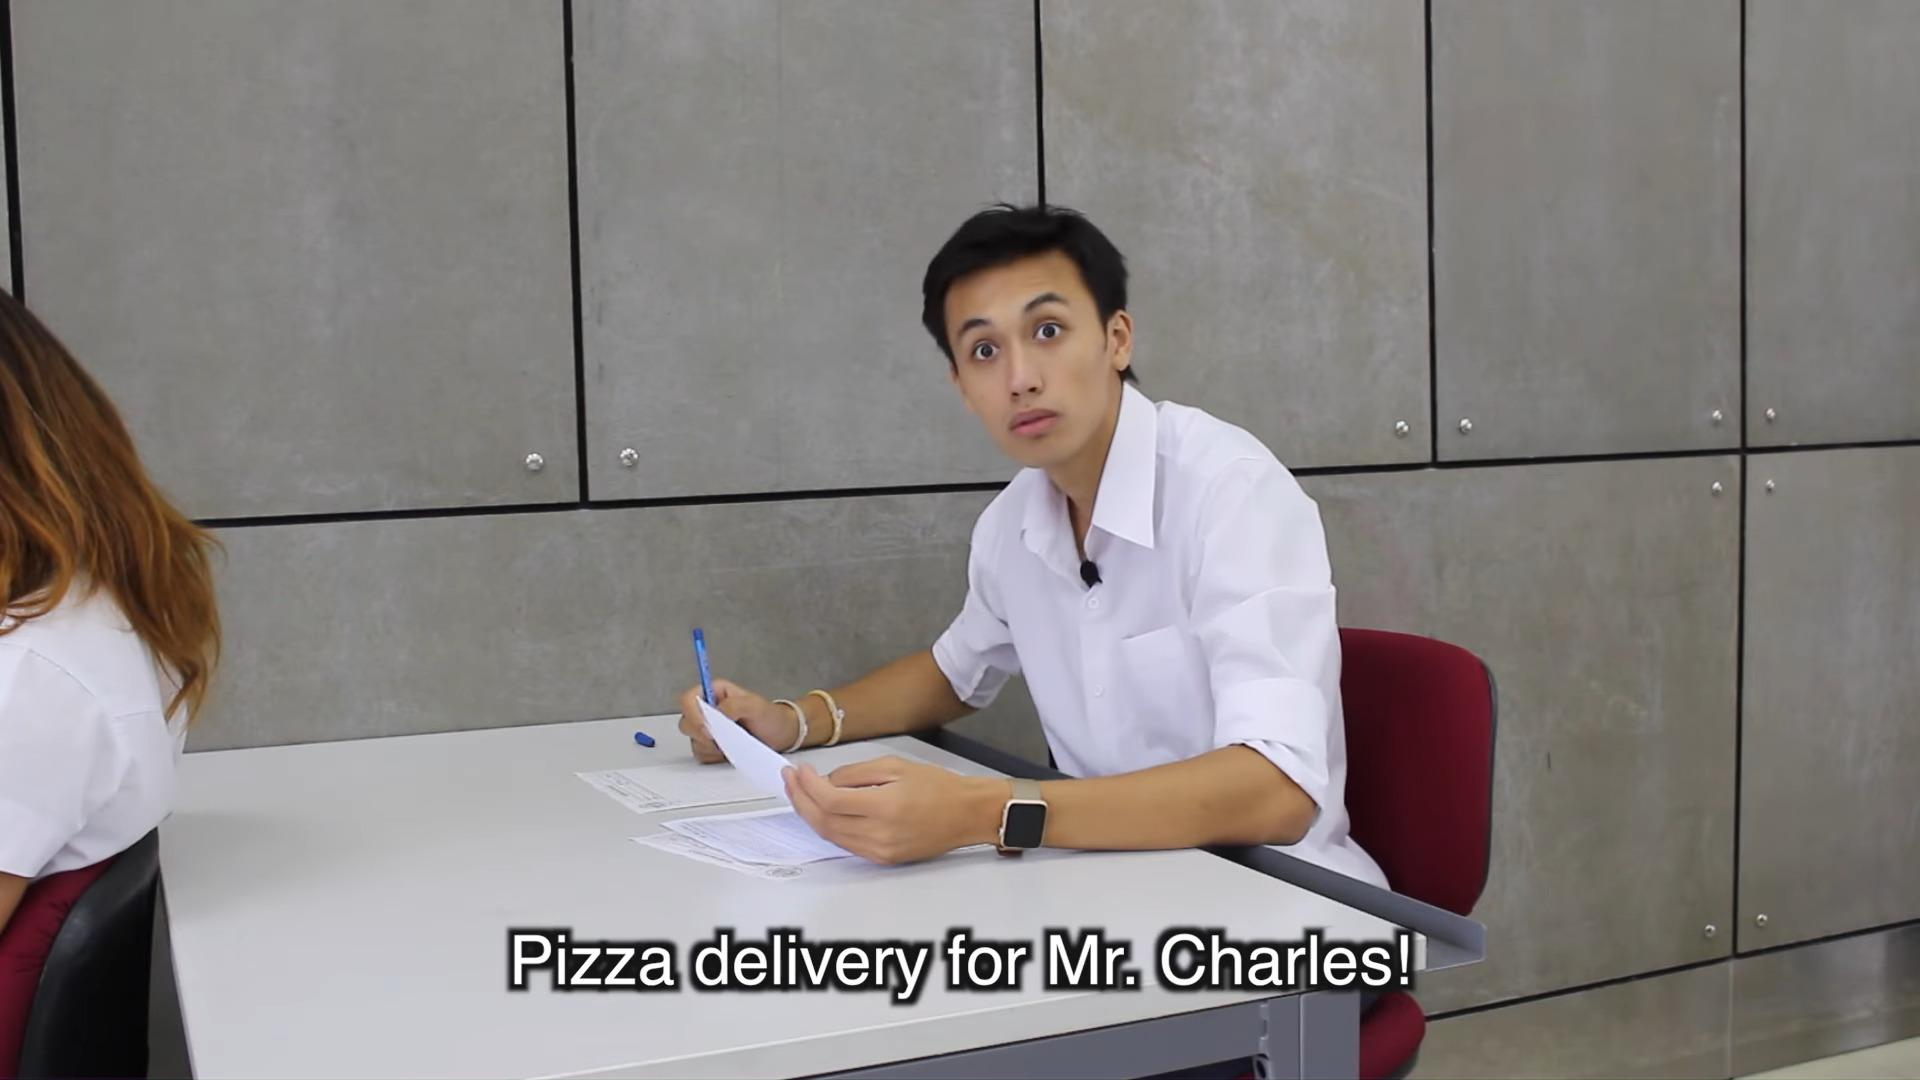cheating: (550, 190, 1378, 899)
